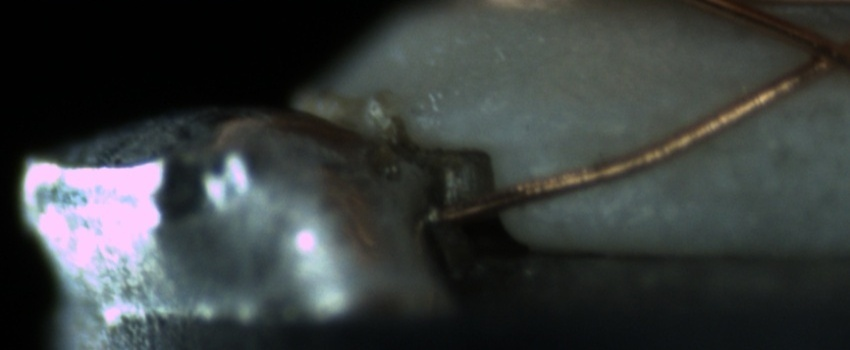CL: (781, 18, 847, 83)
